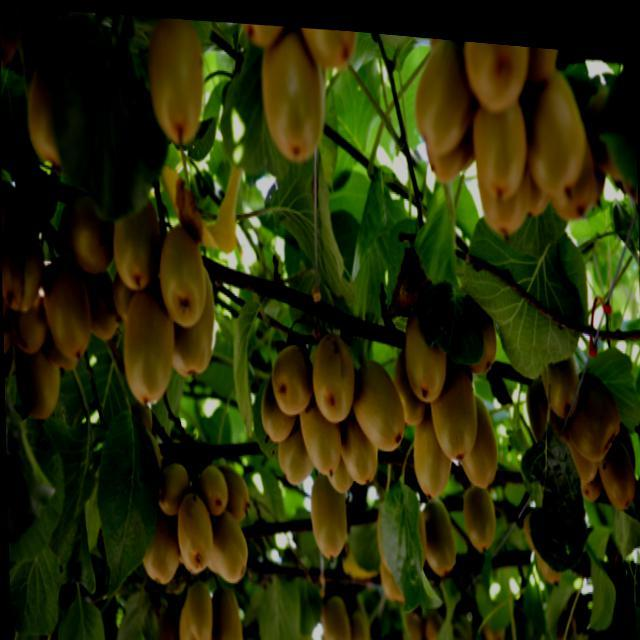kiwi: (518, 50, 584, 188), (261, 25, 323, 160), (147, 13, 205, 141), (158, 254, 216, 375), (478, 101, 528, 229), (415, 34, 473, 144), (472, 80, 527, 196), (26, 48, 79, 164), (121, 285, 172, 398), (425, 57, 475, 172), (42, 249, 90, 358), (157, 220, 206, 325), (110, 187, 160, 289), (431, 341, 476, 454), (352, 348, 403, 444), (12, 323, 60, 421), (567, 358, 617, 450), (404, 292, 448, 392), (8, 255, 51, 355), (311, 318, 354, 416), (411, 392, 452, 492), (64, 186, 111, 271), (456, 382, 497, 478), (2, 226, 45, 315), (298, 385, 341, 468), (76, 256, 119, 339), (457, 280, 497, 368), (539, 317, 579, 405), (203, 499, 245, 582), (269, 330, 311, 409), (138, 501, 178, 582), (527, 365, 566, 442), (394, 335, 429, 419), (419, 489, 455, 570), (177, 488, 211, 570), (596, 425, 634, 498), (260, 364, 296, 437), (304, 22, 358, 66), (531, 499, 562, 575), (463, 476, 495, 545), (213, 454, 247, 517), (211, 579, 244, 640), (176, 585, 212, 640), (156, 453, 187, 512), (185, 569, 212, 635), (196, 457, 226, 514), (320, 588, 348, 640), (344, 594, 369, 640), (242, 19, 284, 45)
